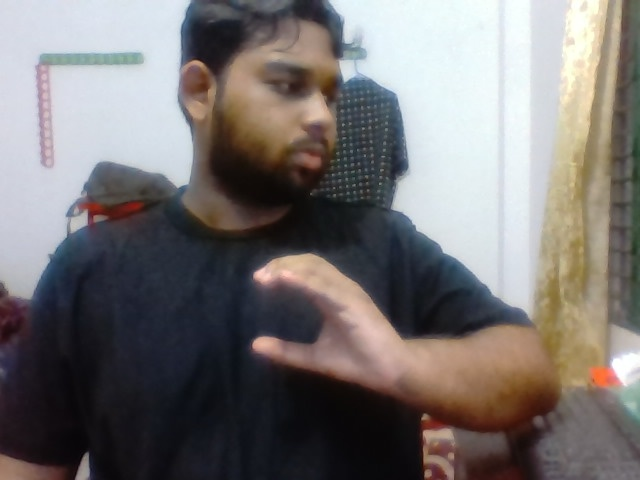C: (227, 248, 413, 408)
